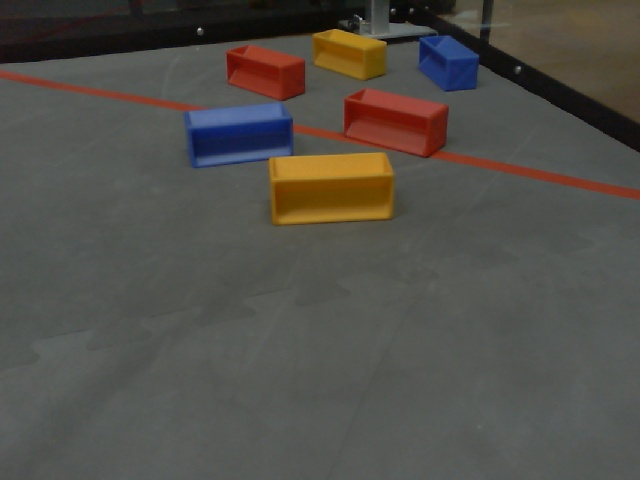BlueSample: (179, 101, 300, 169), (415, 34, 482, 96)
RedSample: (341, 87, 450, 162), (224, 42, 309, 102)
YellowSample: (266, 150, 397, 230), (310, 26, 391, 84)
